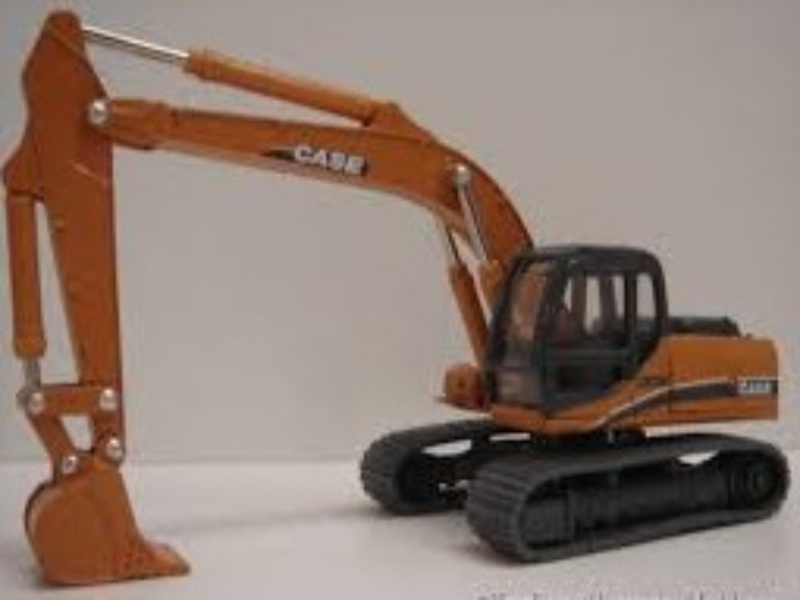wajueji: (359, 171, 800, 570)
